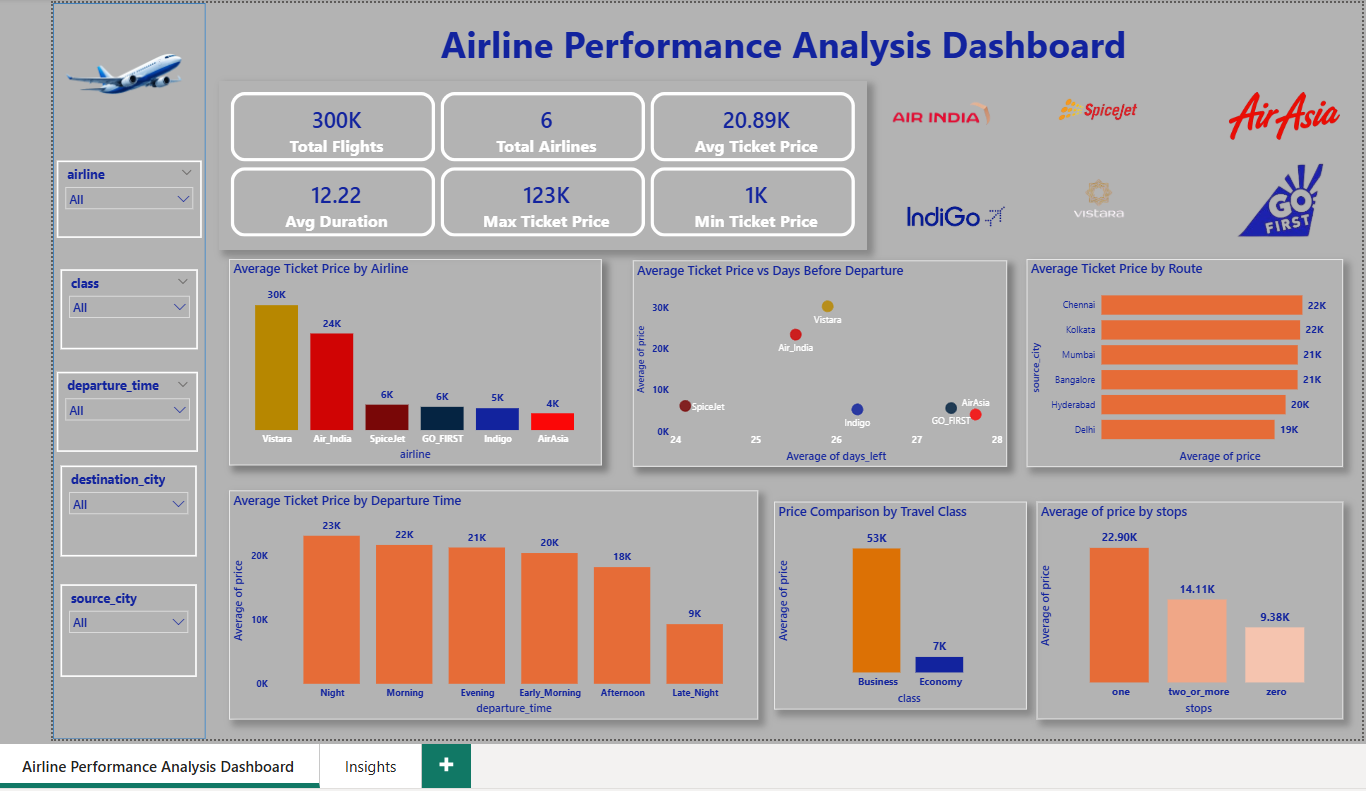

What the dashboard file says about the page in this screenshot:
{"tool":"powerbi","page":{"name":"Airline Performance Analysis Dashboard","canvas":[1920,1080],"ordinal":0},"visuals":[{"type":"image","box":[1251,249.5,148.6,126.6],"z":0},{"type":"image","box":[1194.1,84.4,220.1,165.1],"z":1000},{"type":"image","box":[1443.6,216.4,187.1,144.9],"z":2000},{"type":"image","box":[1428.9,84.4,214.6,161.4],"z":3000},{"type":"image","box":[1676.5,199.9,244,176.1],"z":4000},{"type":"image","box":[1720.5,126.6,172.4,78.9],"z":5000},{"type":"shape","box":[0,0,223.8,1080.4],"z":6000},{"type":"textbox","box":[223.8,0,1696.7,113.7],"z":7000},{"type":"slicer","fields":{"Values":["Clean_Dataset.airline"]},"box":[5.5,231.1,212.8,113.7],"z":8000},{"type":"cardVisual","fields":{"Data":["Clean_Dataset.Total Flights","Clean_Dataset.Total Airlines","Clean_Dataset.Avg Ticket Price","Clean_Dataset.Avg Duration","Clean_Dataset.Max Ticket Price","Clean_Dataset.Min Ticket Price"]},"box":[244,113.7,950.1,247.6],"z":9000},{"type":"clusteredColumnChart","title":"Average Ticket Price by Airline","fields":{"Category":["Clean_Dataset.airline"],"Y":["Avg(Clean_Dataset.price)"]},"box":[258.6,376,546.6,302.7],"z":10000},{"type":"scatterChart","title":"Average Ticket Price vs Days Before Departure","fields":{"Category":["Clean_Dataset.airline"],"X":["Avg(Clean_Dataset.days_left)"],"Y":["Avg(Clean_Dataset.price)"]},"box":[851.1,377.9,548.4,302.7],"z":11000},{"type":"clusteredColumnChart","title":"Average Ticket Price by Departure Time","fields":{"Category":["Clean_Dataset.departure_time"],"Y":["Avg(Clean_Dataset.price)"]},"box":[258.6,715.4,775.9,335.7],"z":12000},{"type":"clusteredBarChart","title":"Average Ticket Price by Route","fields":{"Category":["Clean_Dataset.source_city"],"Y":["Avg(Clean_Dataset.price)"]},"box":[1428.9,376,464.1,304.5],"z":13000},{"type":"clusteredColumnChart","title":"Price Comparison by Travel Class","fields":{"Category":["Clean_Dataset.class"],"Y":["Avg(Clean_Dataset.price)"]},"box":[1058.4,731.9,370.5,304.5],"z":14000},{"type":"clusteredColumnChart","fields":{"Category":["Clean_Dataset.stops"],"Y":["Avg(Clean_Dataset.price)"]},"box":[1443.6,731.9,449.4,319.2],"z":15000},{"type":"slicer","fields":{"Values":["Clean_Dataset.class"]},"box":[11,390.7,201.8,117.4],"z":16000},{"type":"slicer","fields":{"Values":["Clean_Dataset.departure_time"]},"box":[5.5,541.1,207.3,117.4],"z":17000},{"type":"slicer","fields":{"Values":["Clean_Dataset.destination_city"]},"box":[11,678.7,199.9,133.9],"z":18000},{"type":"slicer","fields":{"Values":["Clean_Dataset.source_city"]},"box":[11,852.9,199.9,135.7],"z":19000},{"type":"image","box":[0,16.5,218.3,199.9],"z":20000}]}

Visuals, with their boxes on the page's 1920x1080 design canvas (x1, y1, x2, y2). These are canvas units, not pixel positions in the 1366x791 screenshot, which may show the page scaled, cropped or inside an application window:
image: (left=1251, top=250, right=1400, bottom=376)
image: (left=1194, top=84, right=1414, bottom=250)
image: (left=1444, top=216, right=1631, bottom=361)
image: (left=1429, top=84, right=1644, bottom=246)
image: (left=1676, top=200, right=1920, bottom=376)
image: (left=1720, top=127, right=1893, bottom=206)
shape: (left=0, top=0, right=224, bottom=1080)
textbox: (left=224, top=0, right=1920, bottom=114)
slicer - Clean_Dataset.airline: (left=6, top=231, right=218, bottom=345)
cardVisual - Clean_Dataset.Total Flights x Clean_Dataset.Total Airlines: (left=244, top=114, right=1194, bottom=361)
"Average Ticket Price by Airline" clusteredColumnChart: (left=259, top=376, right=805, bottom=679)
"Average Ticket Price vs Days Before Departure" scatterChart: (left=851, top=378, right=1400, bottom=681)
"Average Ticket Price by Departure Time" clusteredColumnChart: (left=259, top=715, right=1034, bottom=1051)
"Average Ticket Price by Route" clusteredBarChart: (left=1429, top=376, right=1893, bottom=680)
"Price Comparison by Travel Class" clusteredColumnChart: (left=1058, top=732, right=1429, bottom=1036)
clusteredColumnChart - Clean_Dataset.stops x Avg(Clean_Dataset.price): (left=1444, top=732, right=1893, bottom=1051)
slicer - Clean_Dataset.class: (left=11, top=391, right=213, bottom=508)
slicer - Clean_Dataset.departure_time: (left=6, top=541, right=213, bottom=658)
slicer - Clean_Dataset.destination_city: (left=11, top=679, right=211, bottom=813)
slicer - Clean_Dataset.source_city: (left=11, top=853, right=211, bottom=989)
image: (left=0, top=16, right=218, bottom=216)
